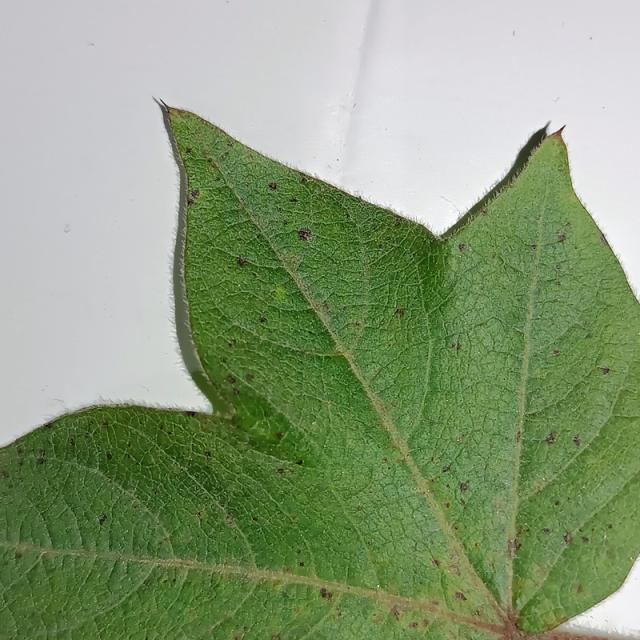Bacterial_Blight: (290, 219, 321, 249), (391, 301, 407, 319), (390, 440, 406, 454), (508, 538, 520, 552), (545, 432, 557, 444), (320, 587, 332, 599), (36, 452, 46, 465), (237, 256, 248, 267), (186, 196, 197, 207), (449, 564, 460, 575), (225, 514, 235, 526), (399, 454, 411, 464), (514, 620, 524, 632), (392, 606, 401, 619), (455, 591, 466, 601), (563, 532, 572, 544), (226, 374, 236, 384), (393, 218, 403, 228), (209, 160, 219, 170), (372, 615, 382, 625), (98, 514, 107, 525), (572, 435, 581, 446), (556, 234, 566, 243), (459, 482, 469, 491), (268, 182, 278, 191), (190, 189, 199, 199), (1, 469, 10, 479), (458, 243, 467, 252), (442, 464, 451, 473), (431, 558, 440, 567), (14, 551, 23, 560), (601, 367, 611, 375), (196, 510, 204, 520), (576, 584, 583, 595), (600, 234, 607, 245), (105, 452, 113, 461), (480, 207, 488, 216), (410, 621, 419, 629), (422, 618, 430, 627), (44, 422, 54, 429), (186, 411, 196, 418), (516, 430, 522, 441), (259, 315, 267, 323), (321, 302, 329, 310), (246, 374, 254, 382), (204, 450, 212, 458), (246, 154, 254, 162), (542, 528, 551, 535), (552, 349, 560, 356), (300, 177, 308, 184), (296, 459, 304, 466), (290, 196, 298, 203), (275, 432, 283, 439), (581, 536, 589, 543), (390, 400, 398, 407), (585, 332, 593, 339), (459, 498, 466, 506), (289, 514, 297, 521), (473, 610, 481, 617), (164, 106, 171, 114), (233, 388, 240, 395), (456, 342, 462, 350), (277, 468, 285, 474), (241, 626, 249, 632), (531, 244, 538, 250), (354, 320, 360, 327), (186, 147, 192, 154), (102, 421, 109, 427), (252, 516, 259, 522), (227, 141, 234, 147), (564, 221, 571, 227), (444, 502, 450, 509), (366, 540, 372, 547), (377, 243, 383, 250), (299, 561, 305, 567), (228, 341, 234, 347), (554, 500, 560, 506), (382, 457, 388, 463), (272, 636, 281, 640), (233, 636, 242, 640), (607, 524, 613, 529), (556, 281, 561, 286)
Cotton: (0, 104, 639, 639)
